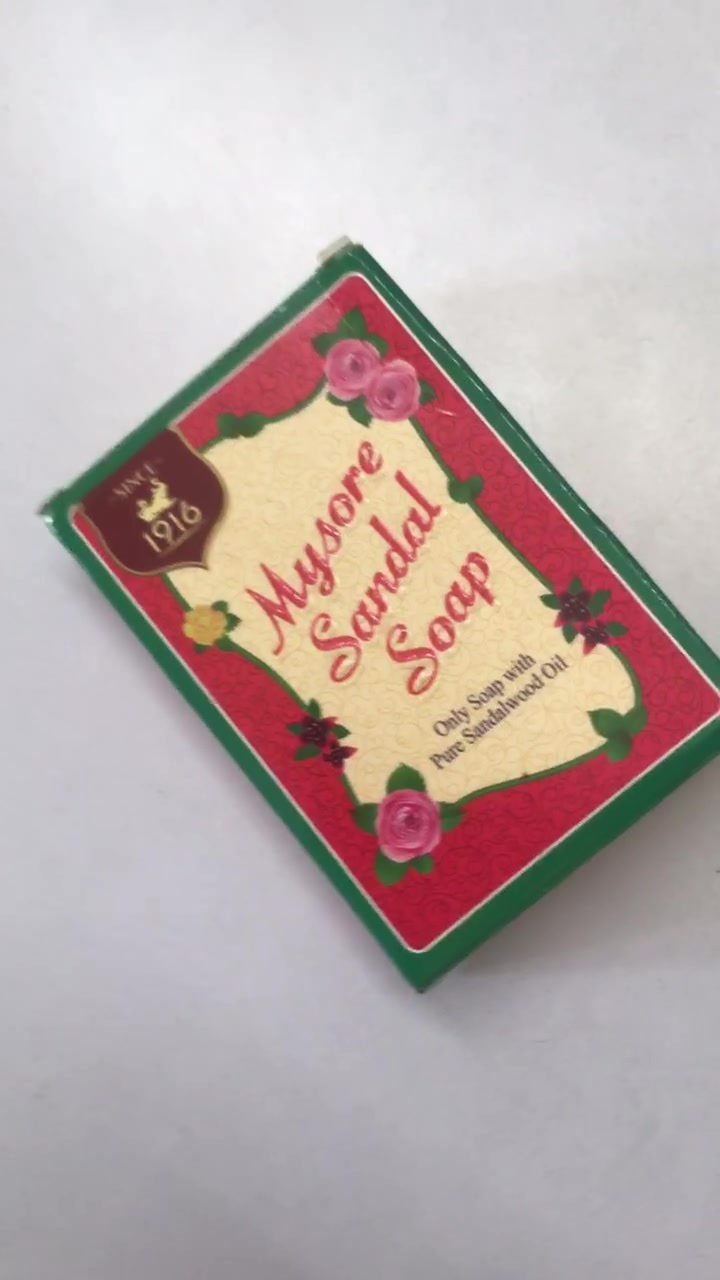mysore sandal soap: (38, 245, 720, 993)
